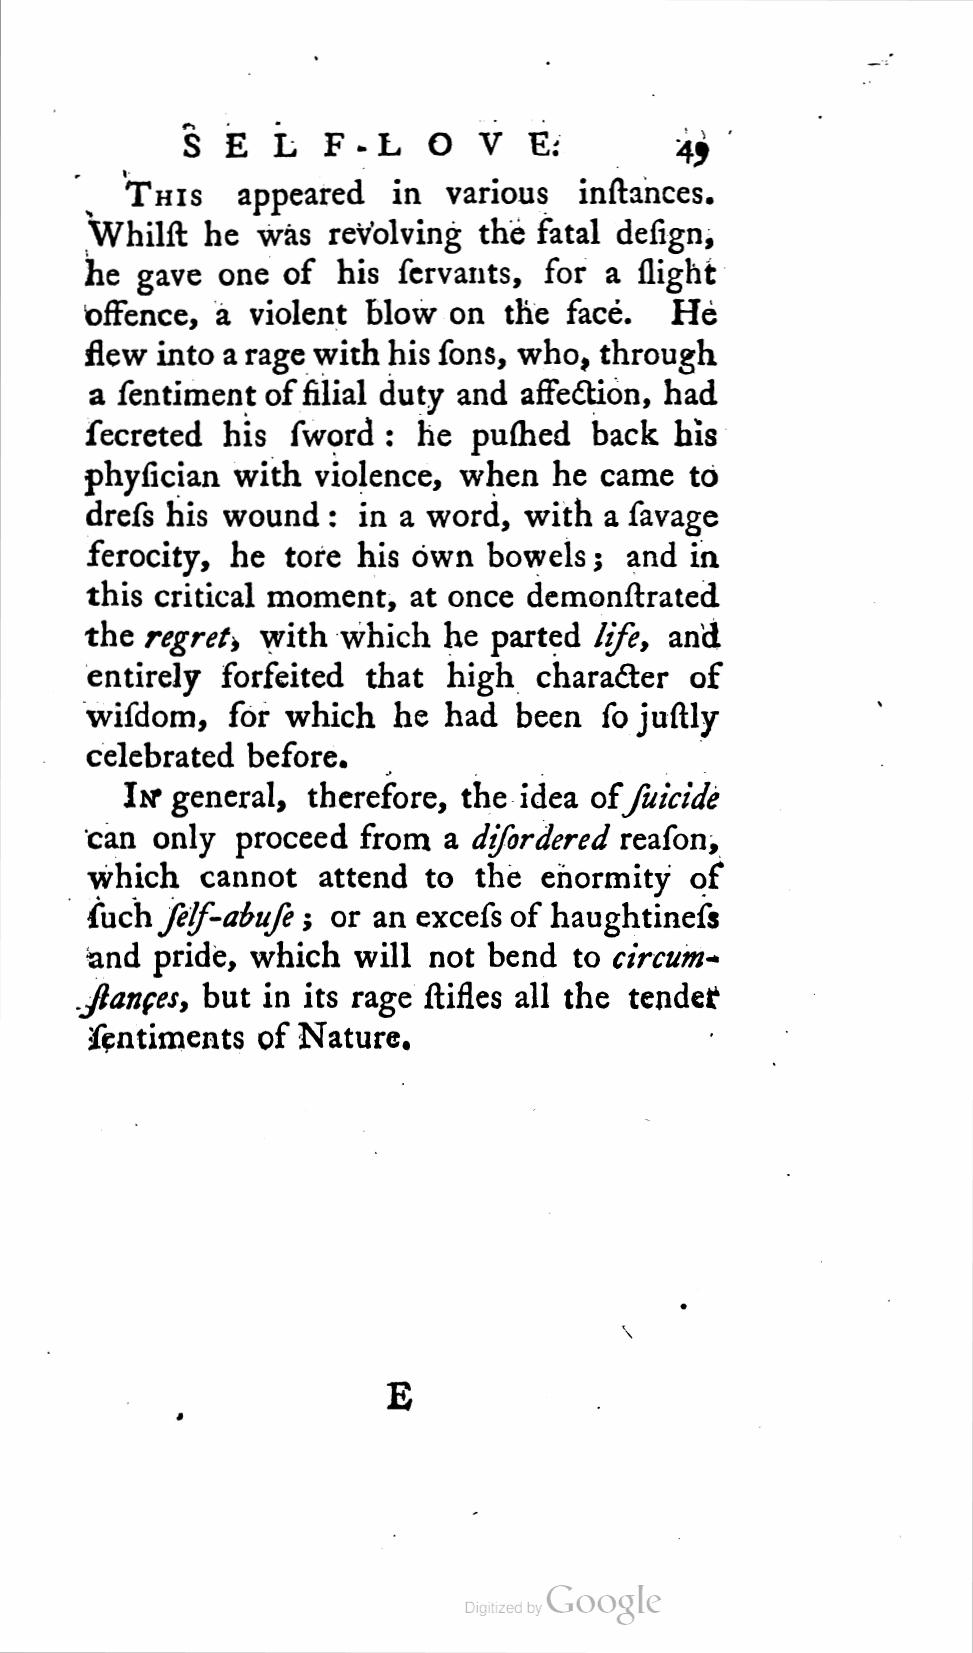full_p: (79, 175, 724, 773), (78, 775, 723, 1054)
header: (181, 124, 565, 161)
page_num: (674, 137, 714, 170)
signature: (383, 1376, 417, 1416)
